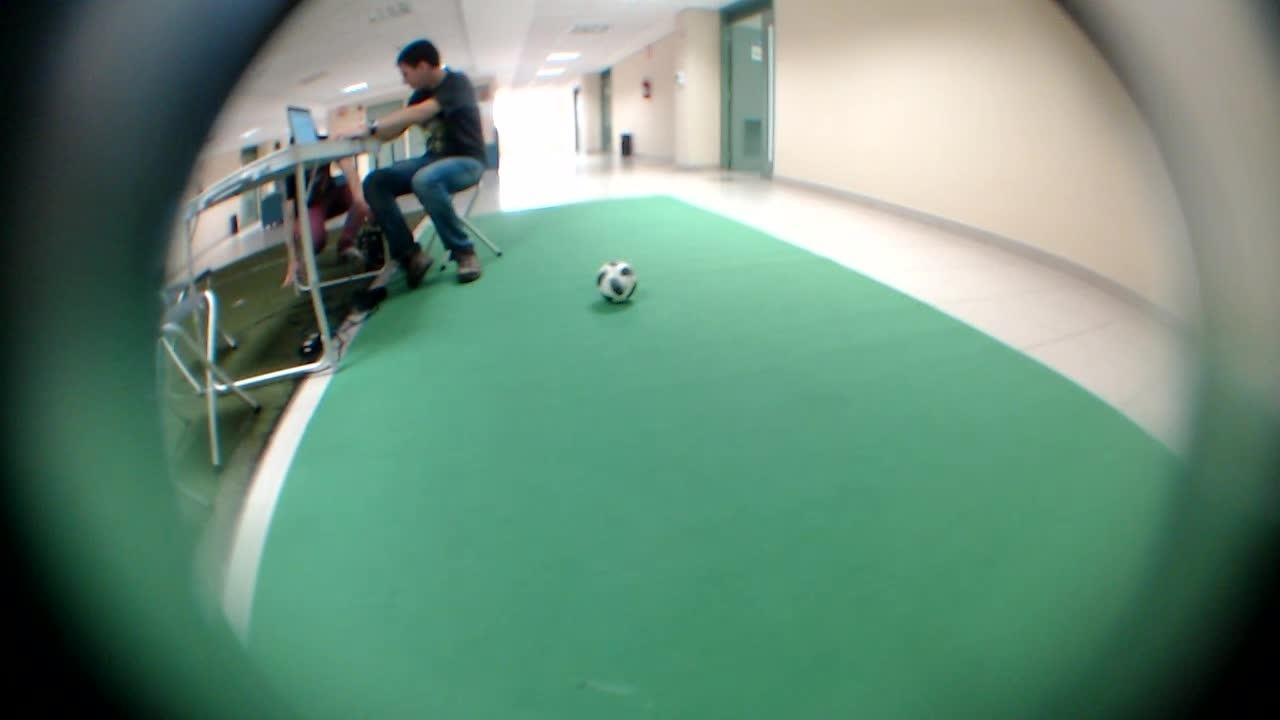ball: (587, 253, 648, 309)
